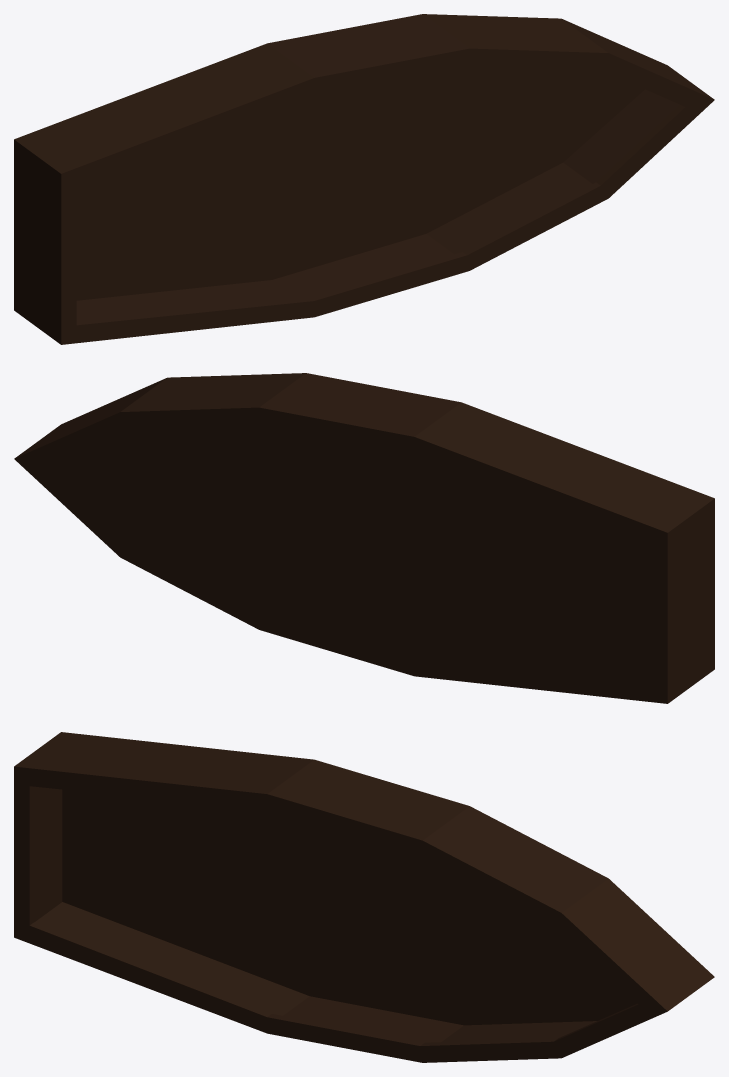
The model's file is Boat.glb.
3 views of the same model, one above another, from view 1: azimuth 30°, elevation 25°; view 2: azimuth 150°, elevation 25°; view 3: azimuth 330°, elevation 25° (orthographic).
Parts seen in each view (by area): view 1: Boat; view 2: Boat; view 3: Boat.
Boxes of the visible parts, box(x1,y1,x2,y2) form: Boat: box(14, 14, 714, 344); Boat: box(14, 373, 714, 703); Boat: box(14, 732, 714, 1062).
Size of the model in its own units: 8 by 2.8 by 1.
Materials: 1 (1 with a texture image).
